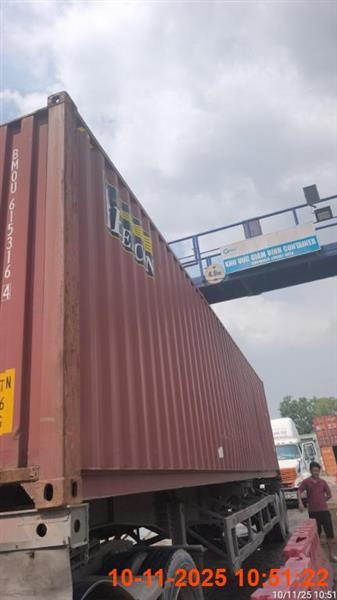rust: (0, 90, 291, 599), (269, 417, 313, 503), (296, 461, 333, 540)
